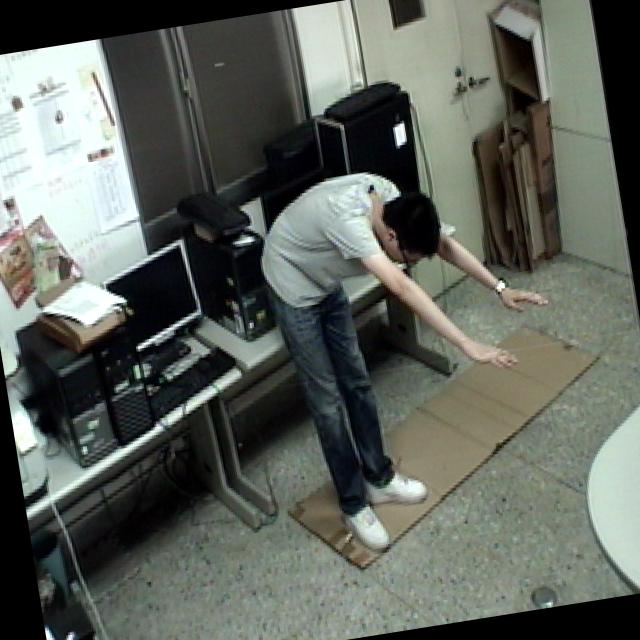bend: (242, 132, 587, 567)
